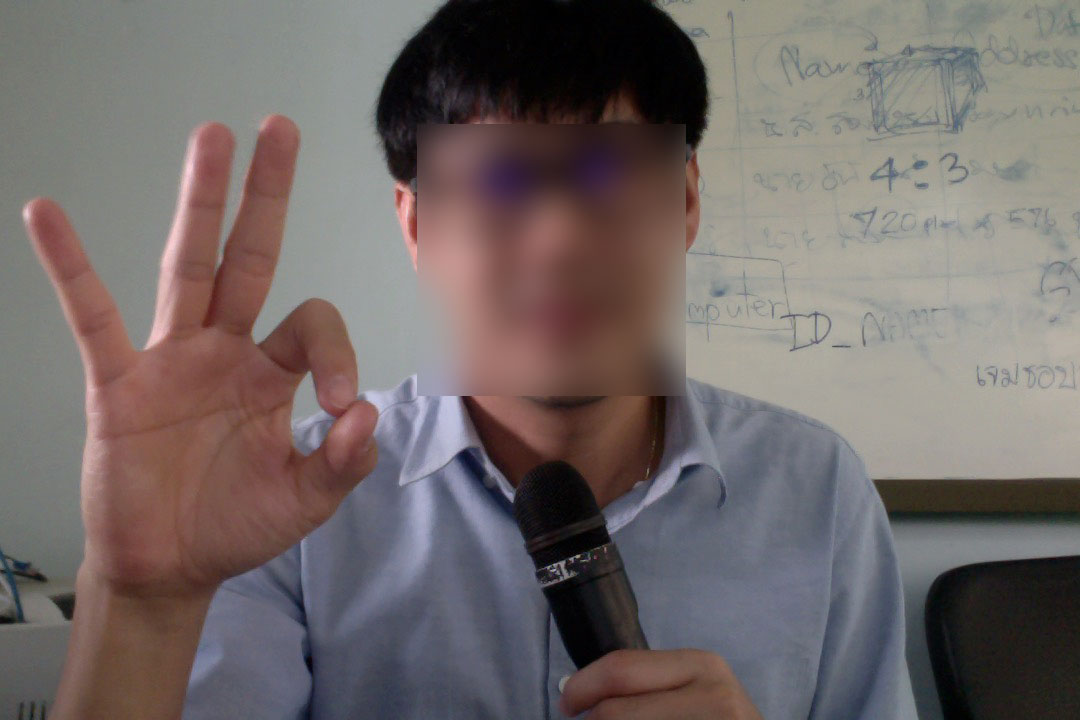for: (14, 98, 387, 603)
